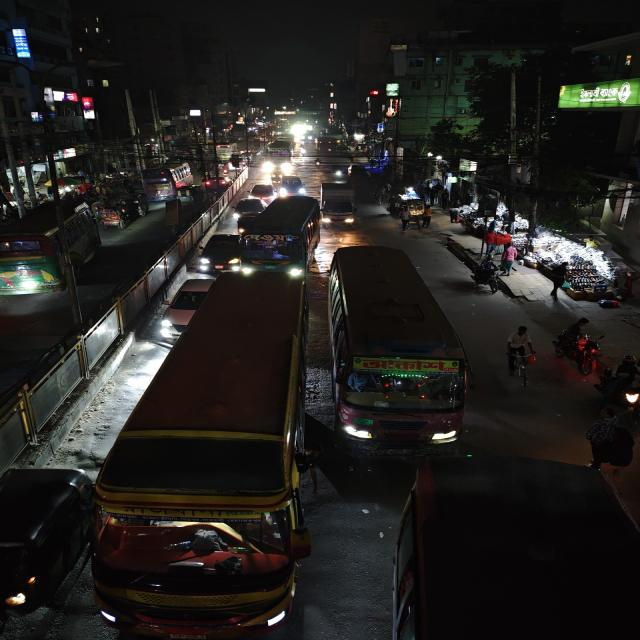bicycle: (501, 324, 539, 386)
bus: (97, 281, 307, 640), (326, 243, 473, 452), (0, 198, 103, 298), (238, 194, 322, 280), (137, 159, 194, 203), (264, 139, 295, 169)
car: (160, 275, 213, 335), (189, 230, 240, 276), (230, 196, 265, 218), (277, 175, 308, 197), (247, 182, 277, 201)
cng: (0, 466, 94, 634)
motorcycle: (551, 319, 604, 376), (616, 362, 640, 421), (475, 256, 502, 294)
rickshaw: (390, 197, 433, 231), (96, 203, 131, 231)
truck: (318, 181, 360, 229)
